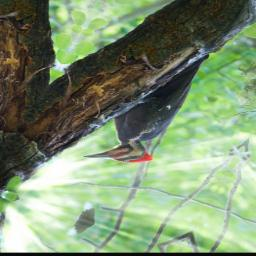Woodpecker: (80, 35, 218, 178)
